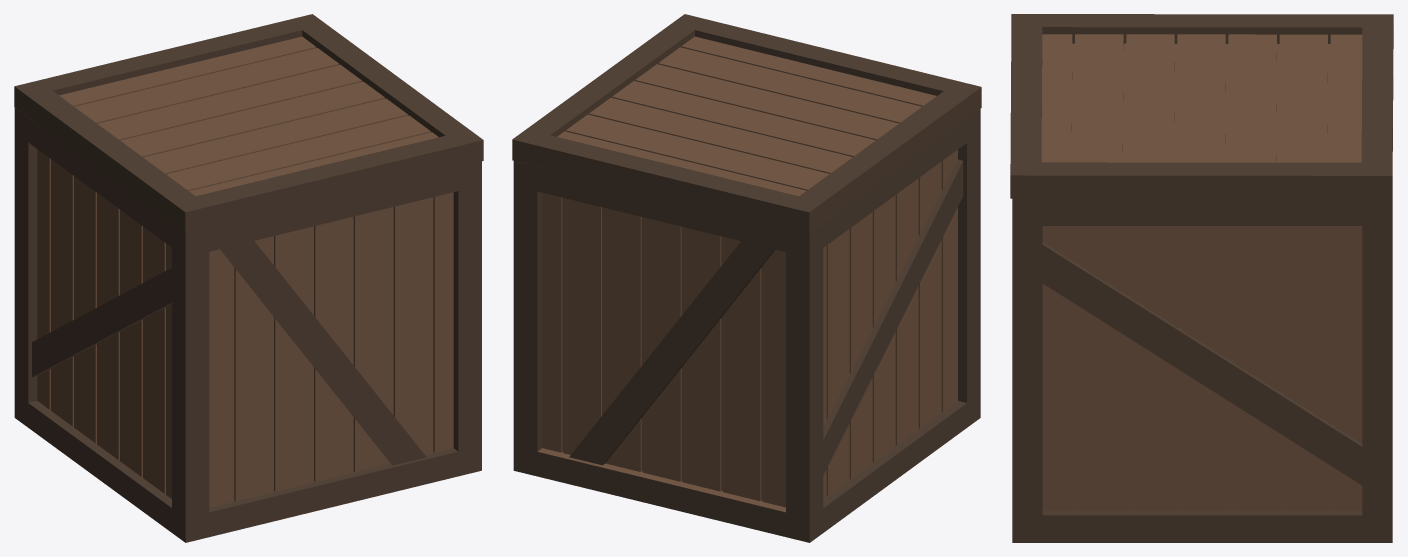
File: Caisse_1.fbx
3 renders of one model, left to right at view 1: azimuth 30°, elevation 25°; view 2: azimuth 150°, elevation 25°; view 3: azimuth 270°, elevation 25°, orthographic. The views are drawn at different scales.
Parts seen in each view (by area): view 1: polySurface29; view 2: polySurface29; view 3: polySurface29.
Boxes of the visible parts, x1,y1,x2,y2 form: polySurface29: (14, 14, 483, 542); polySurface29: (512, 14, 981, 542); polySurface29: (1010, 14, 1393, 542).
Size of the model in its own units: 1.01 by 1.07 by 1.01.
